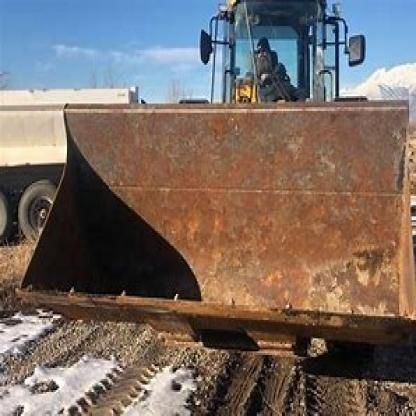bull_dozer/loader/grader: (4, 0, 415, 364)
